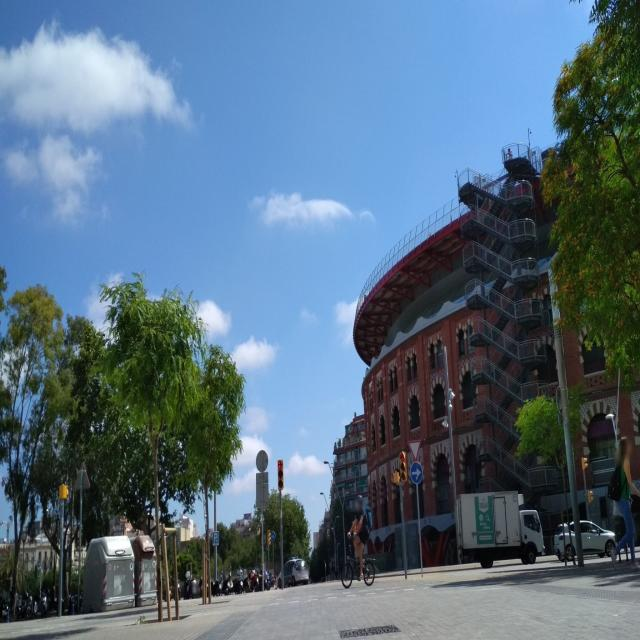bike: (340, 540, 374, 588)
car: (554, 519, 617, 559), (276, 556, 310, 592)
